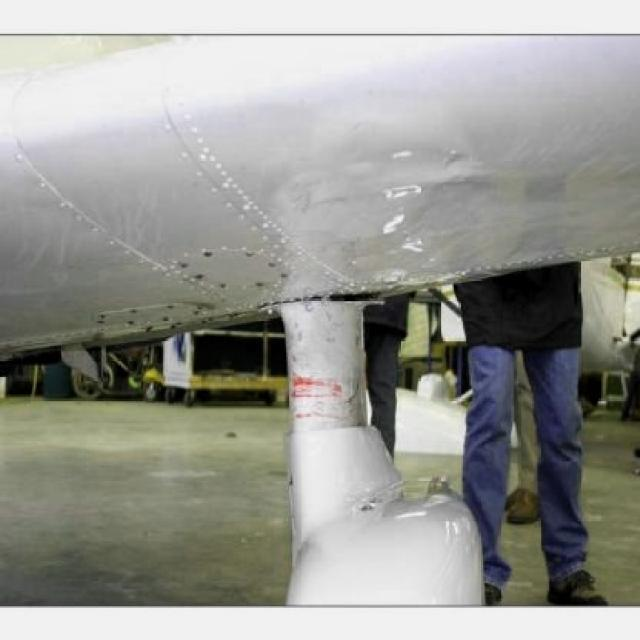dent: (384, 175, 429, 203)
